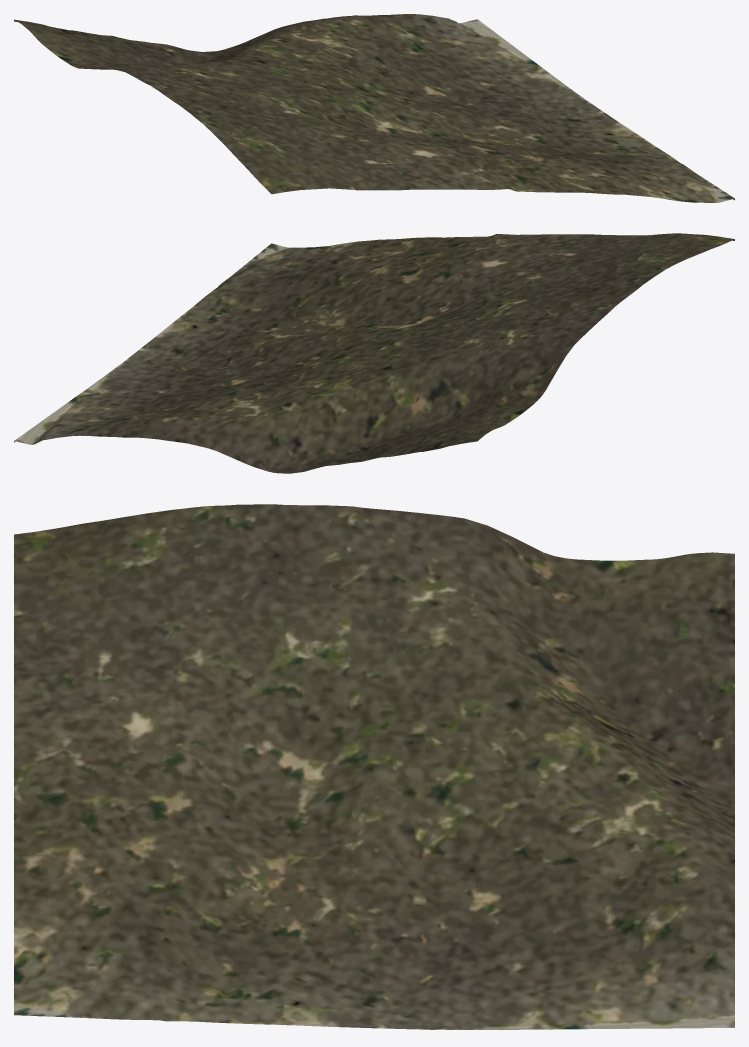
3 renders of one model, top to bottom at view 1: azimuth 30°, elevation 25°; view 2: azimuth 150°, elevation 25°; view 3: azimuth 270°, elevation 25°, orthographic. The views are drawn at different scales.
Size of the model in its own units: 250 by 78.04 by 241.
Materials: 1 (1 with a texture image).
